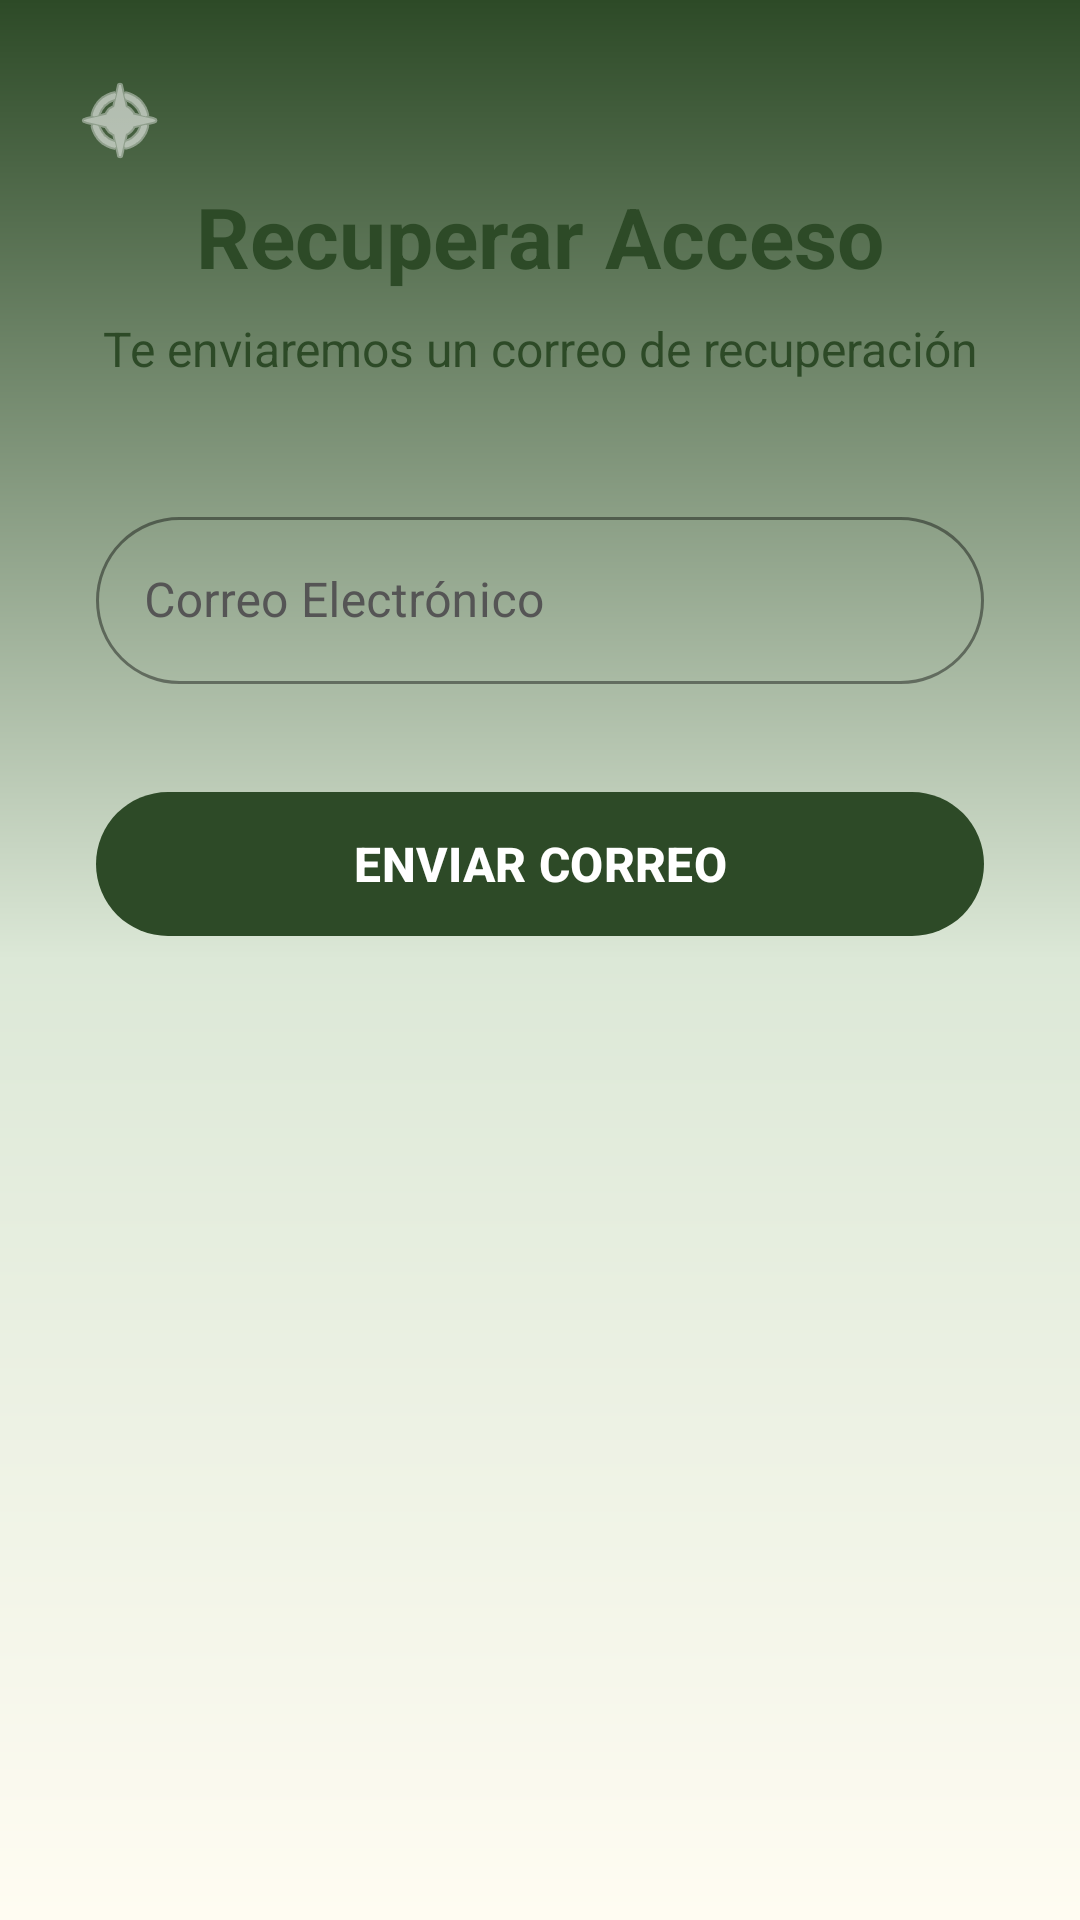

Icons on this 1080 × 1920 Android screen, each with its box as [x1, y1, x2, y2]:
compass: [82, 83, 157, 158]
